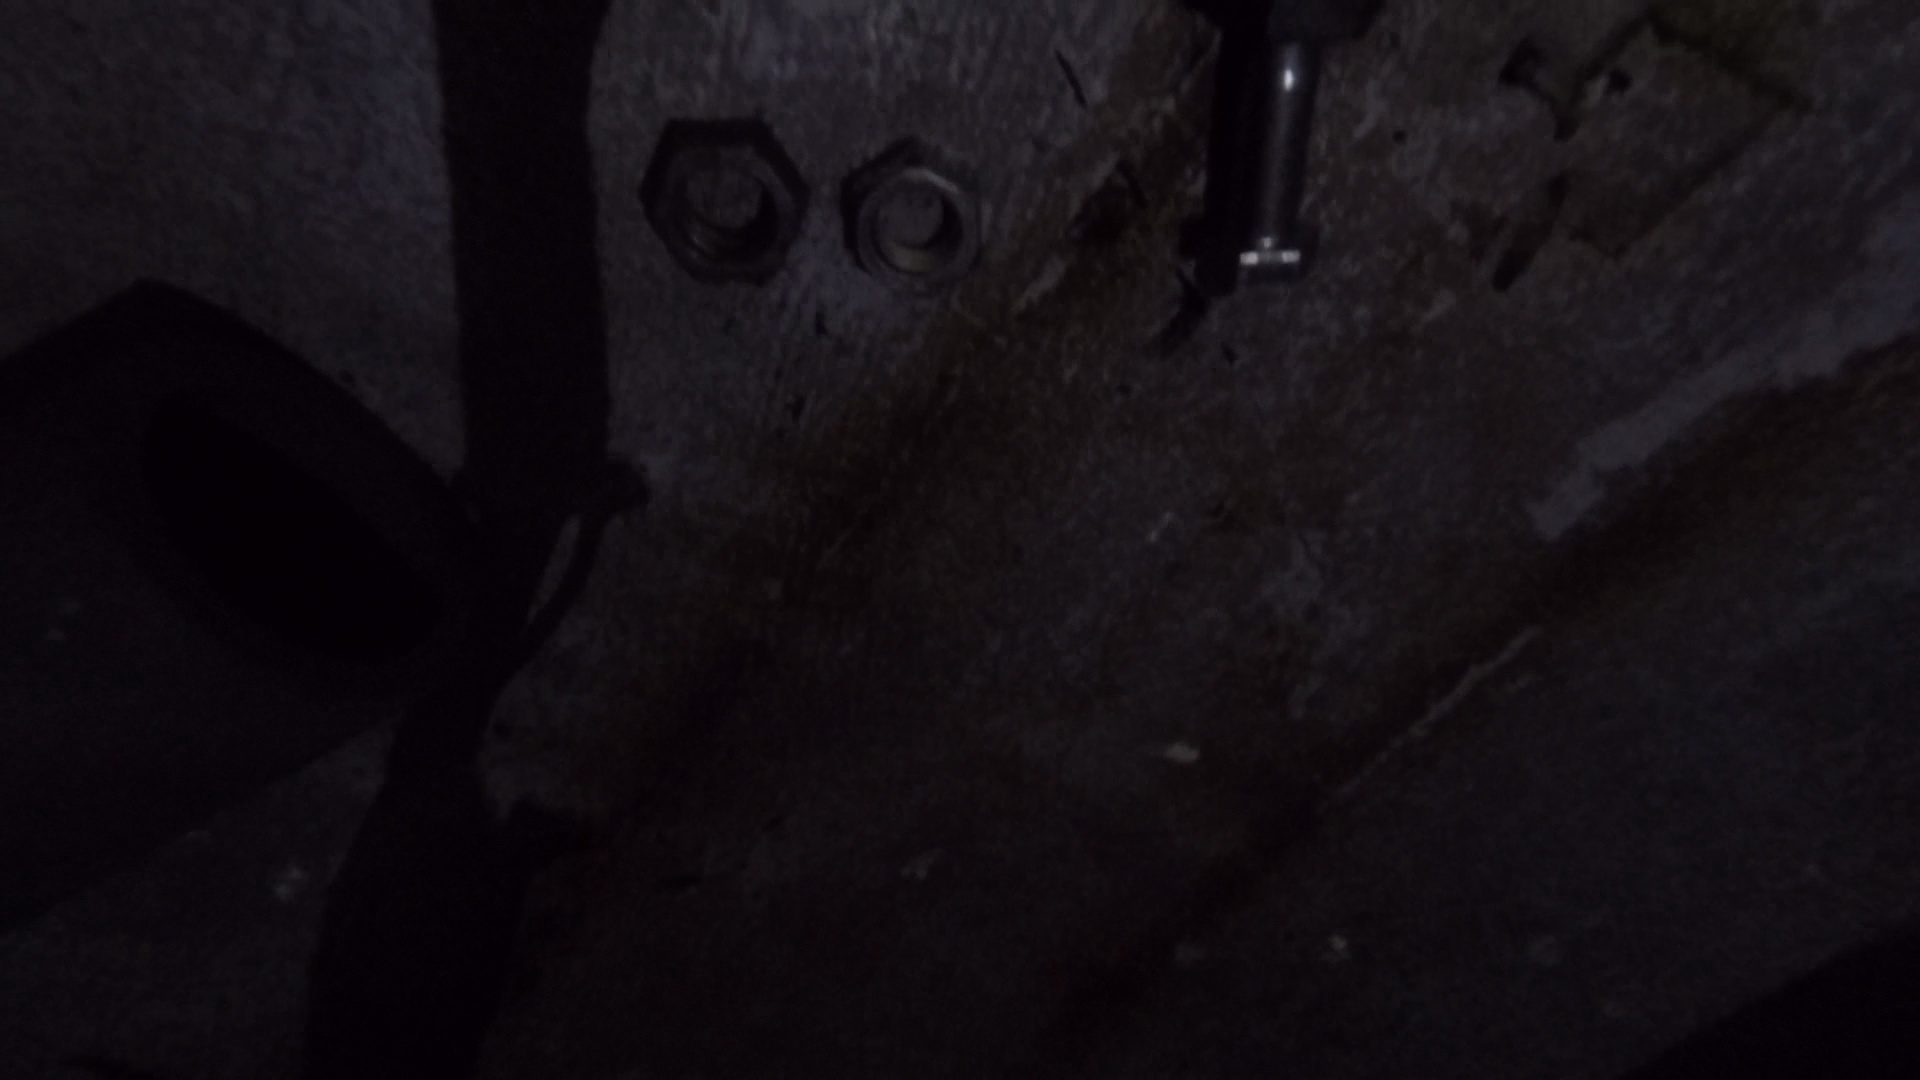nut: (1196, 1, 1362, 290), (640, 119, 806, 287), (843, 136, 990, 299)
pipe: (1, 278, 501, 934)
